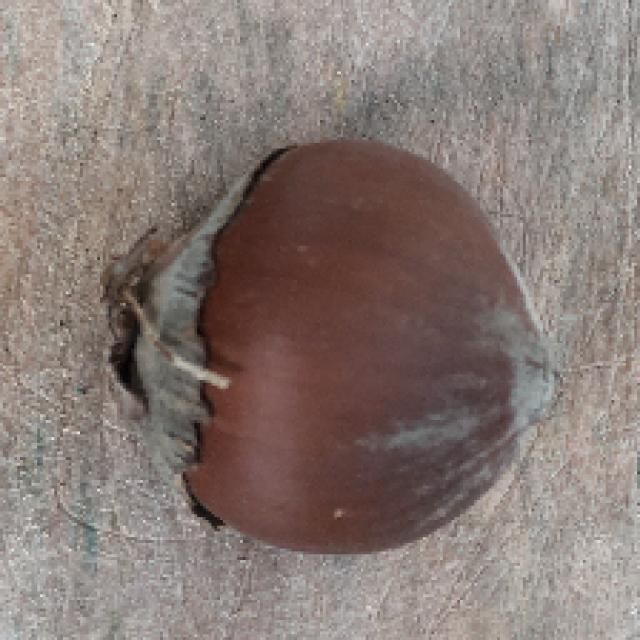damagedHazelnut: (110, 138, 562, 557)
